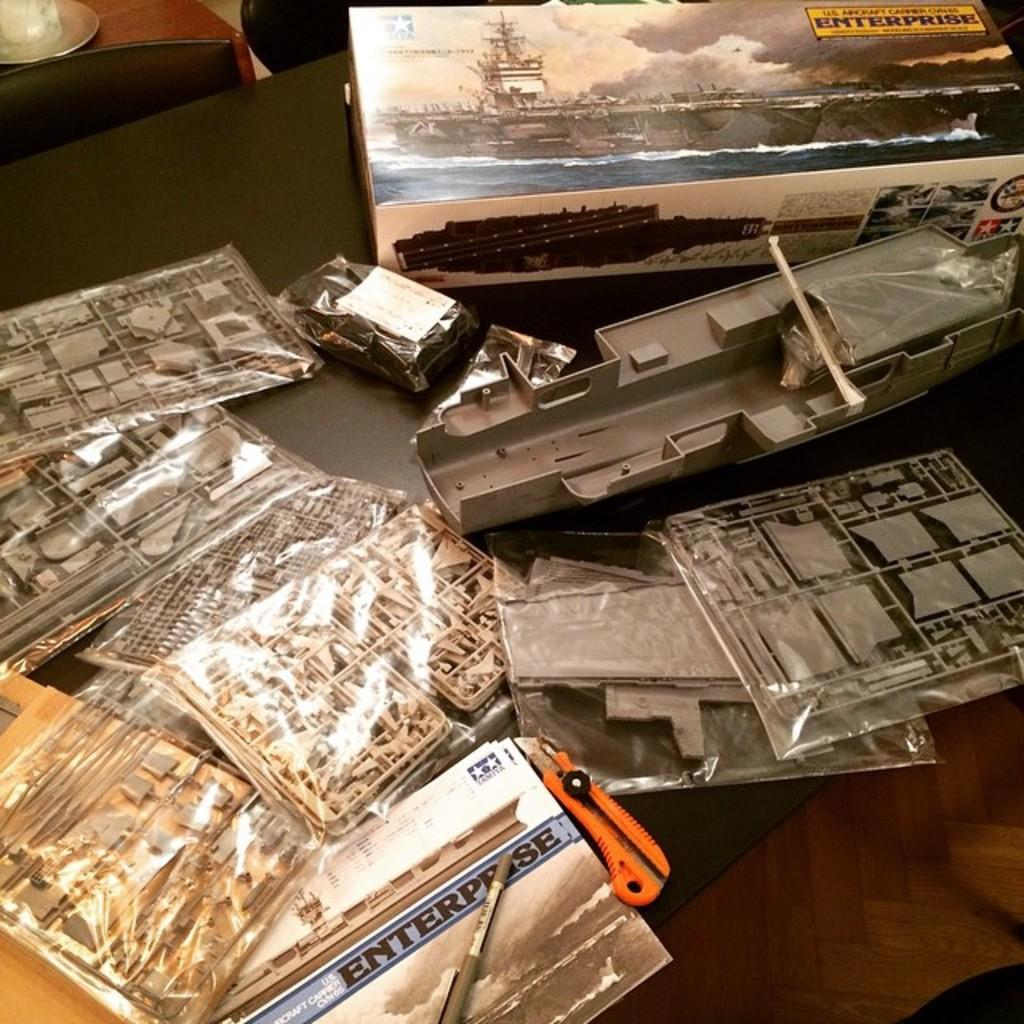Knife: (515, 731, 669, 912)
